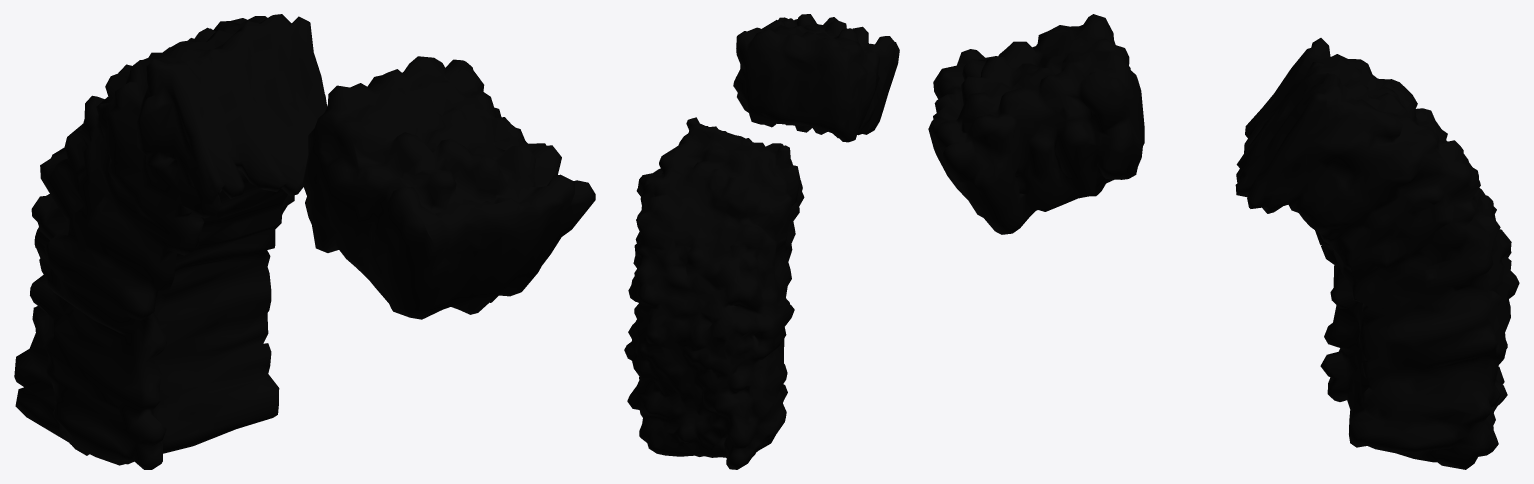
The model's file is mohawk black.glb.
3 renders of one model, left to right at view 1: azimuth 30°, elevation 25°; view 2: azimuth 150°, elevation 25°; view 3: azimuth 270°, elevation 25°, orthographic. The views are drawn at different scales.
Visible parts, largest first — view 1: hair_short_mohawk_black.001; view 2: hair_short_mohawk_black.001; view 3: hair_short_mohawk_black.001.
Boxes of the visible parts, x1,y1,x2,y2 form: hair_short_mohawk_black.001: [14, 14, 595, 469]; hair_short_mohawk_black.001: [624, 14, 899, 469]; hair_short_mohawk_black.001: [928, 14, 1519, 469].
Size of the model in its own units: 0.1861 by 0.3255 by 0.4074.
1 material, 1 textured.
